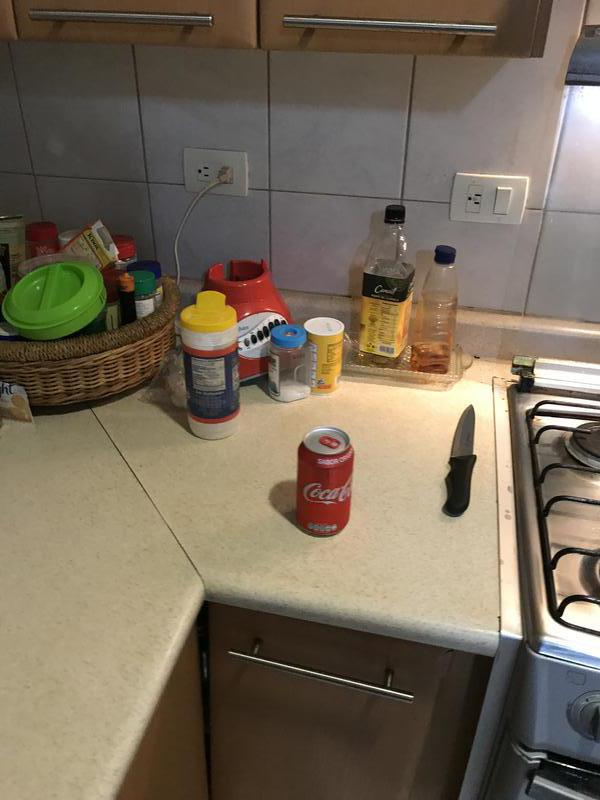coca_cola: (299, 428, 352, 535)
